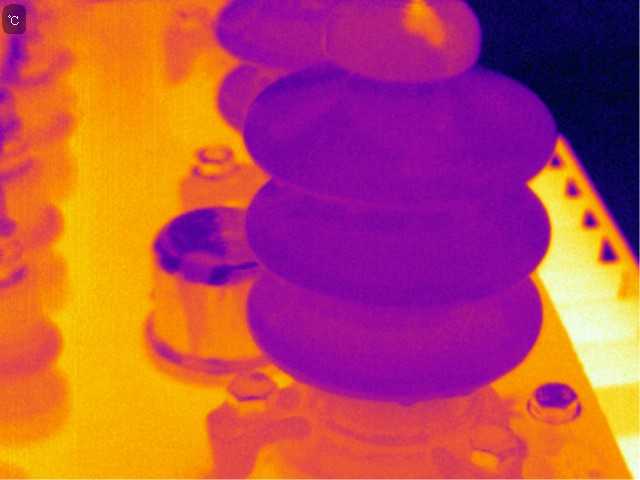Oil: (326, 5, 482, 81), (402, 1, 461, 52), (397, 392, 419, 410)
